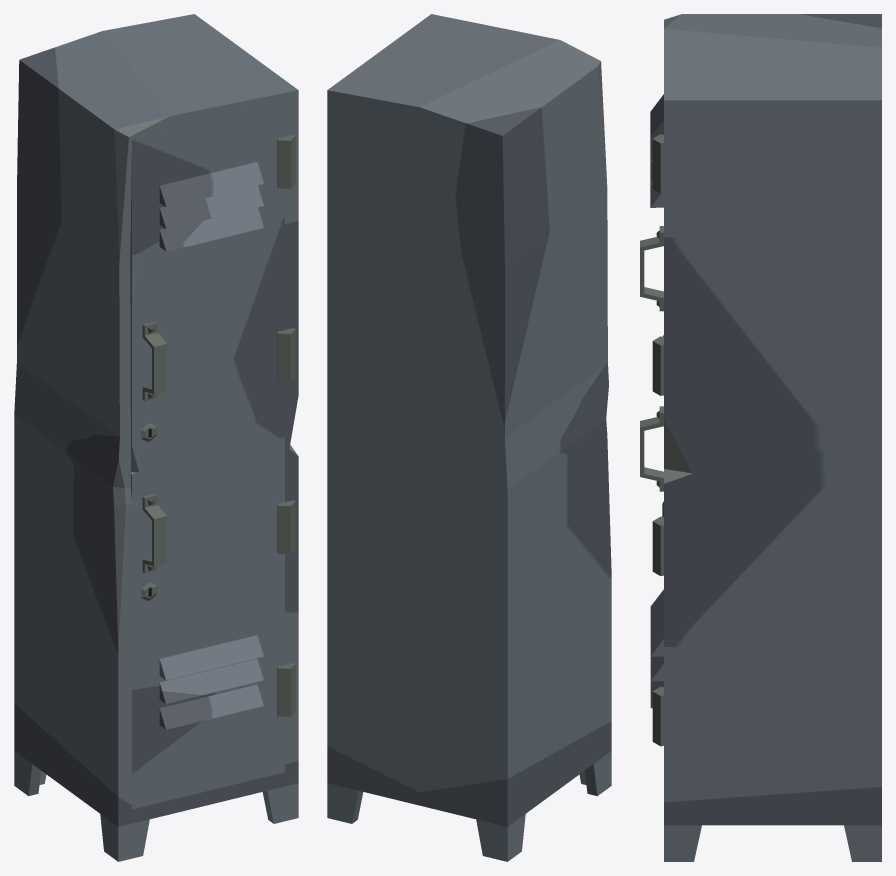
Rendered from SM_Locker_White.gltf.
3 renders of one model, left to right at view 1: azimuth 30°, elevation 25°; view 2: azimuth 150°, elevation 25°; view 3: azimuth 270°, elevation 25°, orthographic. The views are drawn at different scales.
Parts seen in each view (by area): view 1: SM_Locker_White, SM_Locker_Door_Up_White, SM_Locker_Door_Bot_White; view 2: SM_Locker_White; view 3: SM_Locker_White, SM_Locker_Door_Bot_White, SM_Locker_Door_Up_White.
Boxes of the visible parts, bbox=[...] form: SM_Locker_White: bbox=[14, 14, 298, 861]; SM_Locker_Door_Up_White: bbox=[130, 102, 295, 472]; SM_Locker_Door_Bot_White: bbox=[131, 437, 295, 809]; SM_Locker_White: bbox=[327, 14, 611, 861]; SM_Locker_White: bbox=[664, 14, 881, 861]; SM_Locker_Door_Bot_White: bbox=[640, 406, 663, 746]; SM_Locker_Door_Up_White: bbox=[640, 94, 663, 395].
Bounding box in the file's own units: 0.5405 × 2.1 × 0.6001.
Materials: 1 (1 with a texture image).
